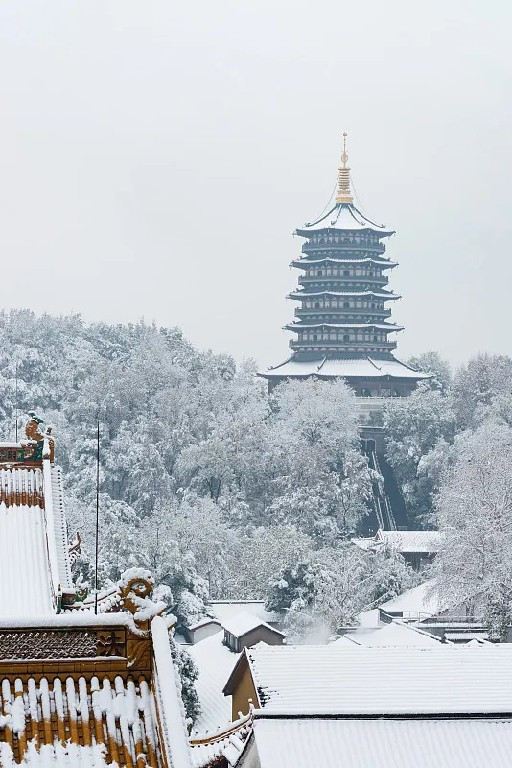Leifeng: (254, 134, 430, 400)
